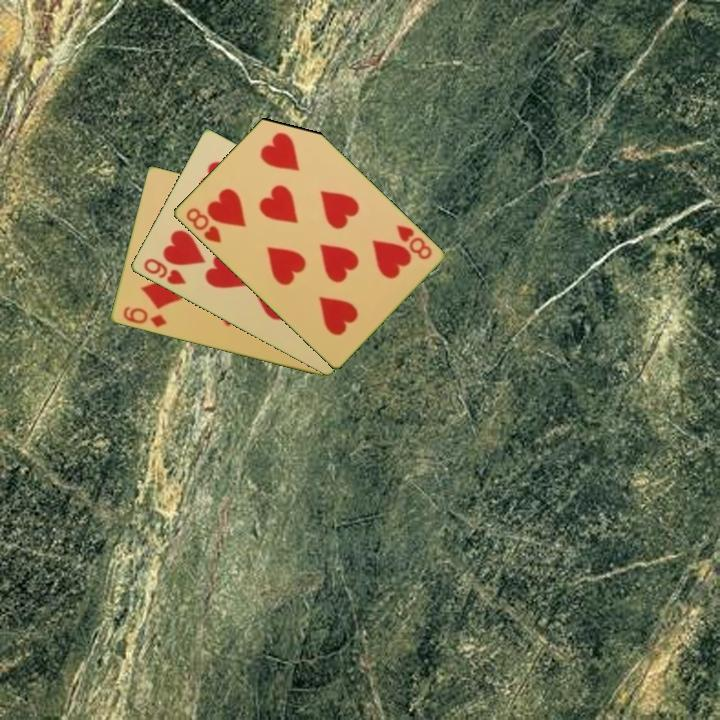6d: (119, 303, 169, 331)
8h: (182, 204, 224, 246), (392, 221, 435, 262)
9h: (140, 255, 188, 288)
